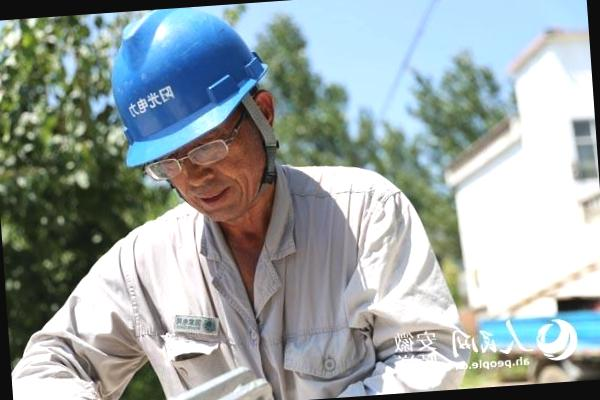helmet: (96, 12, 280, 184)
no_vest: (124, 163, 414, 400)
person: (0, 0, 461, 400)
